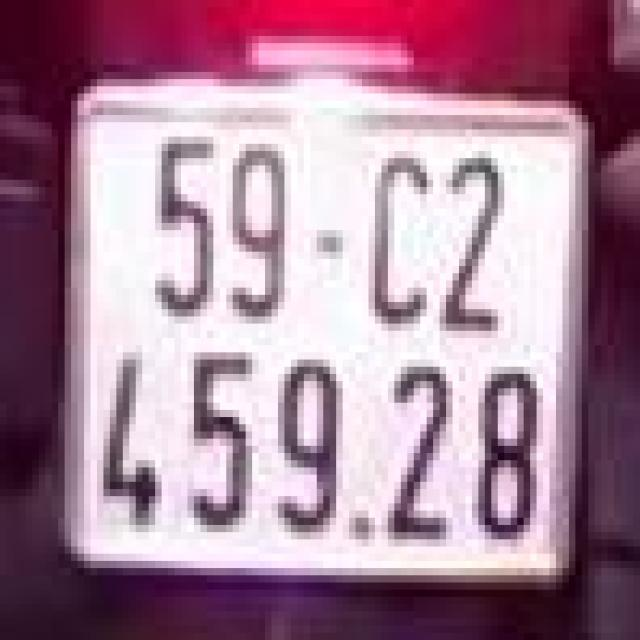2: (378, 345, 462, 561), (439, 140, 524, 334)
4: (84, 342, 168, 536)
5: (178, 331, 262, 532), (152, 126, 216, 327)
8: (459, 338, 530, 561)
9: (262, 334, 339, 543), (223, 133, 281, 334)
C: (359, 140, 430, 334)
